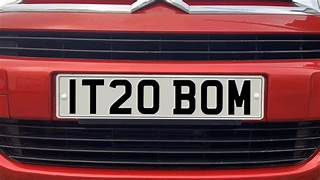number_plate: (57, 73, 264, 119)
